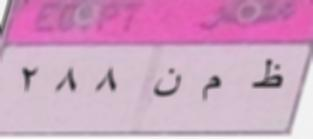2: (19, 61, 42, 103)
8: (90, 65, 123, 104), (50, 63, 80, 100)
Thaa: (249, 56, 285, 107)
meem: (199, 69, 223, 107)
noon: (148, 64, 183, 106)
